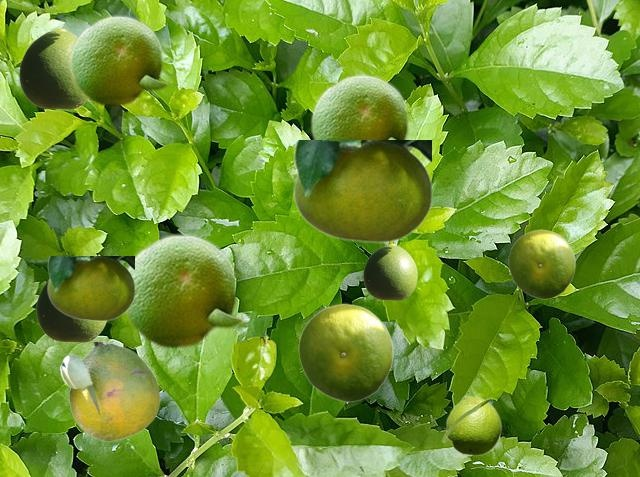dalandan: (123, 232, 245, 348), (293, 140, 430, 242), (59, 342, 159, 440), (68, 13, 169, 106), (298, 303, 392, 401), (309, 72, 415, 151), (47, 256, 133, 320), (19, 29, 87, 108), (508, 229, 574, 298), (36, 280, 107, 341), (441, 395, 501, 455), (363, 244, 416, 299)
